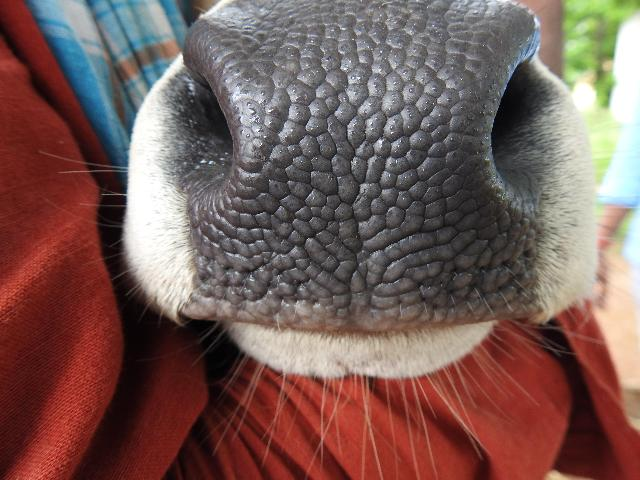Muzzle: (213, 6, 493, 302)
